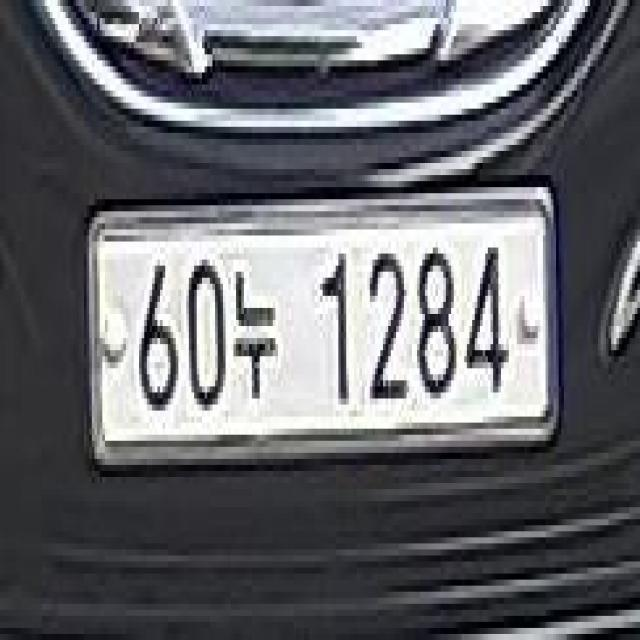0: (184, 244, 228, 408)
1: (317, 246, 356, 408)
2: (364, 238, 410, 404)
4: (462, 235, 510, 402)
6: (130, 244, 182, 413)
8: (416, 236, 456, 399)
license_plate: (84, 170, 568, 468)
nu: (232, 252, 284, 404)
